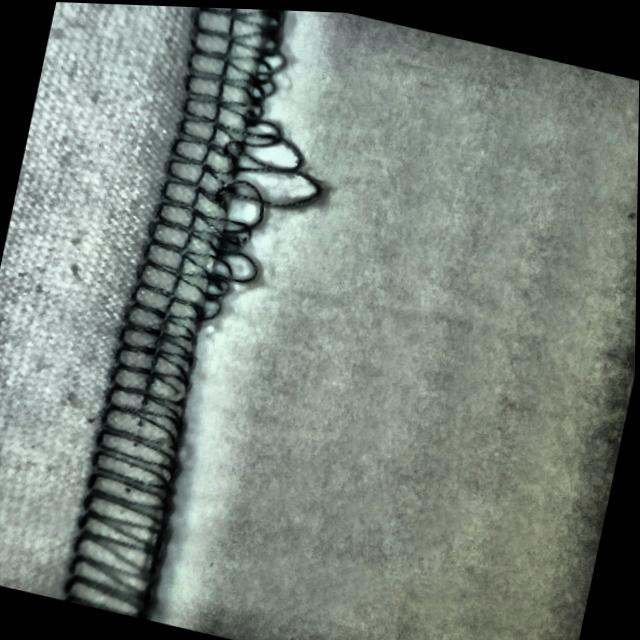Stitch: (125, 26, 353, 341)
